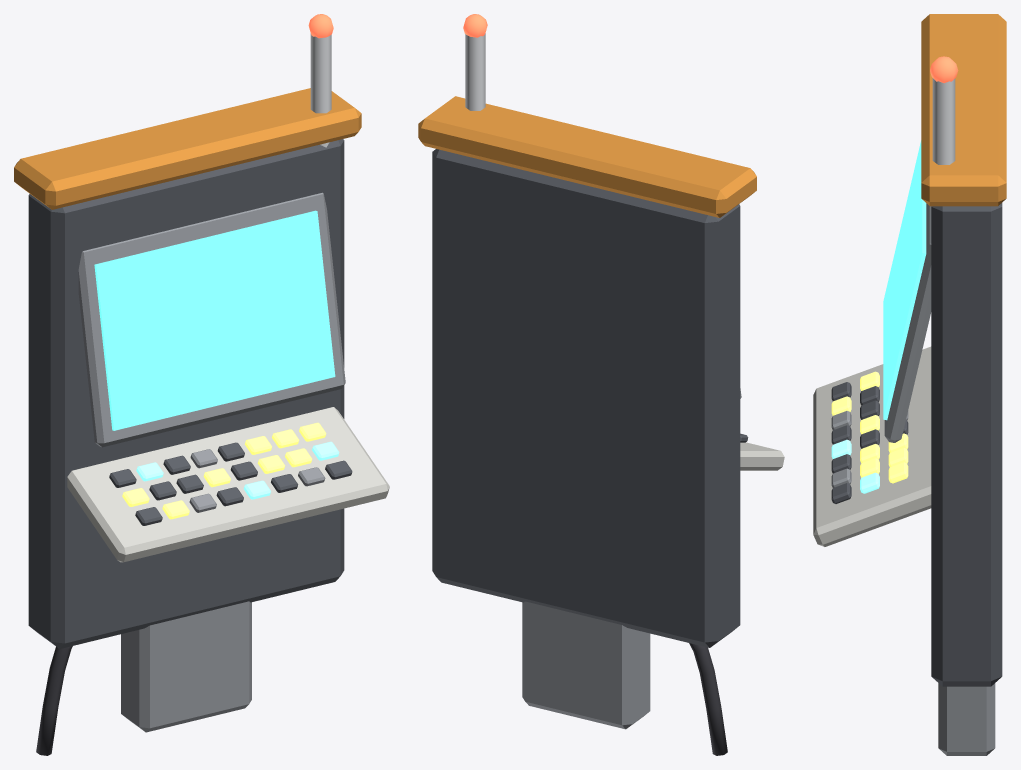
The model's file is terminal_wall.glb.
3 views of the same model, side by side, from view 1: azimuth 30°, elevation 25°; view 2: azimuth 150°, elevation 25°; view 3: azimuth 270°, elevation 25° (orthographic). The views are drawn at different scales.
Parts seen in each view (by area): view 1: terminal_wall; view 2: terminal_wall; view 3: terminal_wall.
Part boxes in pixels (<box>): terminal_wall: <box>14,14,389,755</box>; terminal_wall: <box>418,14,784,755</box>; terminal_wall: <box>813,14,1006,755</box>.
Bounding box in the file's own units: 1.4 × 2.89 × 0.6793.
